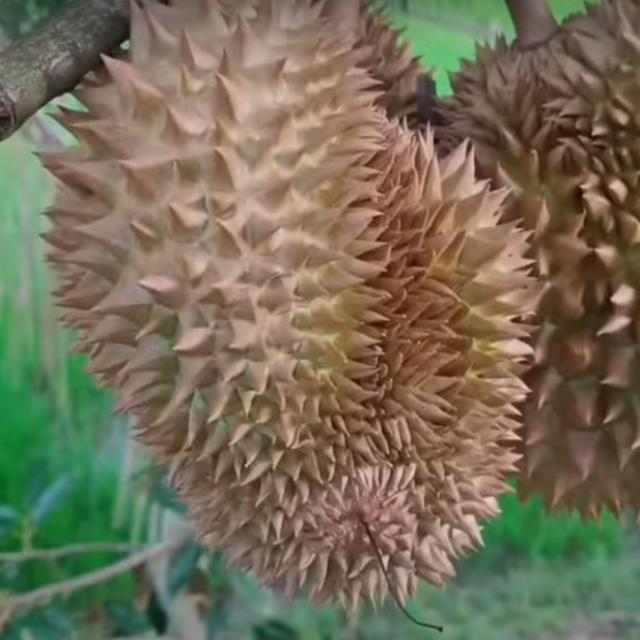mature: (30, 0, 543, 614)
